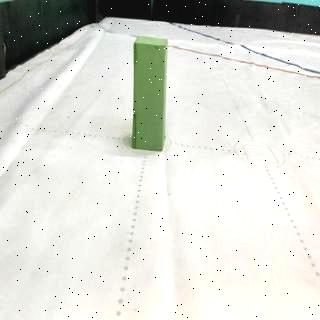greenbox: (134, 34, 168, 152)
